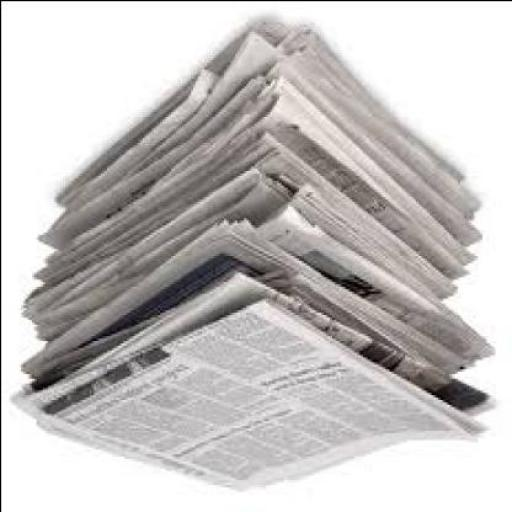paper: (14, 35, 496, 493), (56, 22, 482, 220), (20, 236, 494, 408), (38, 167, 479, 298)
